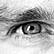eye: (23, 23, 41, 35)
